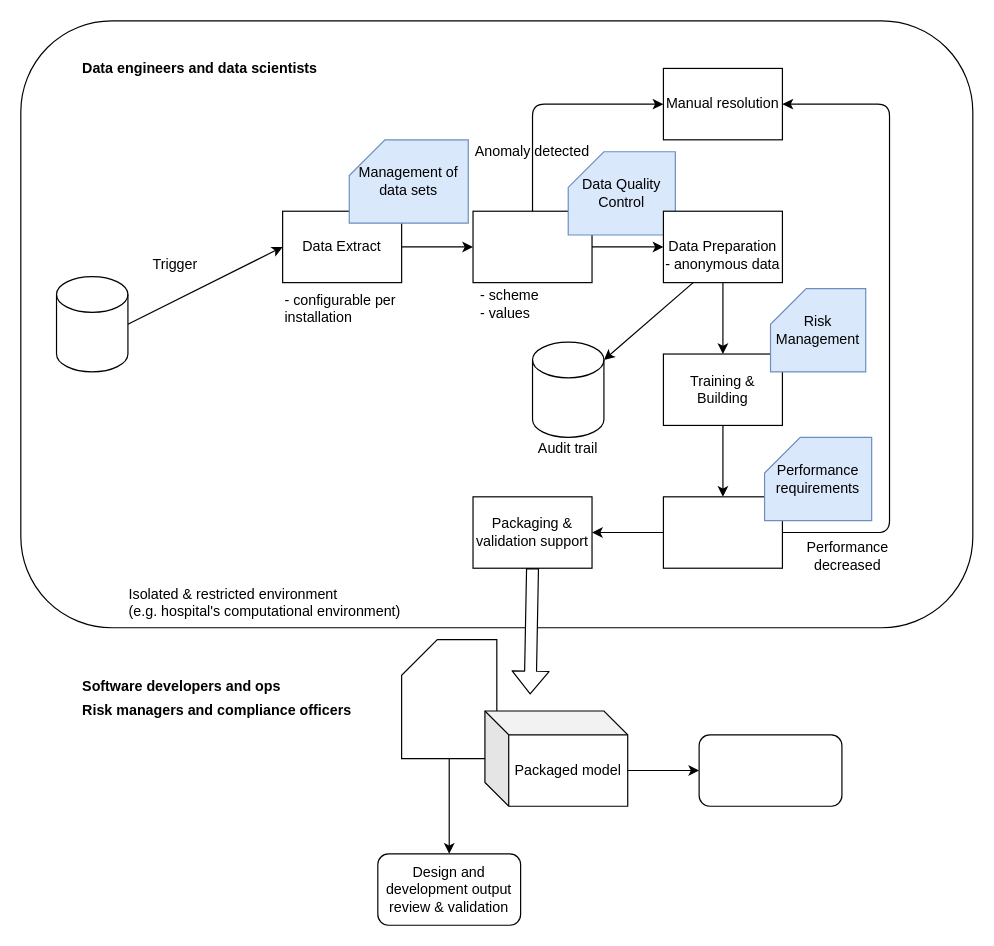
Some shapes in this 994 by 946 pixel diagram are drawn without their labels. Here are the shapes that lost their labels. From the top down, the centre of each, then its label:
(532,246): Data Validation
(91,323): Data Store
(567,389): Data snapshot
(722,532): Verification
(448,698): Performance & validation report
(770,770): Deployment pipeline
